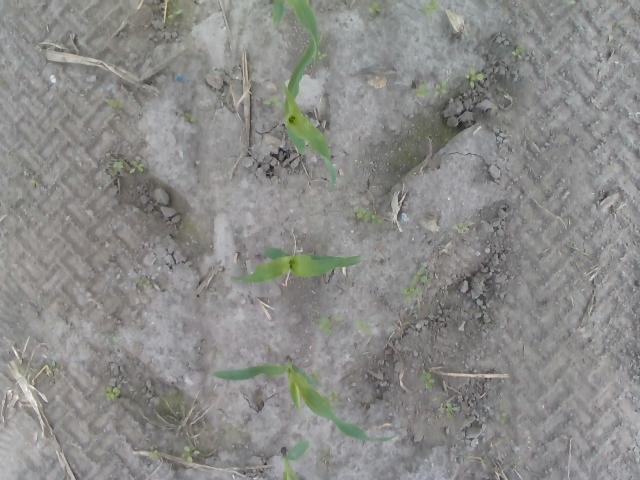Maize: (208, 357, 400, 444), (282, 33, 340, 190), (227, 244, 368, 286), (269, 0, 321, 51), (277, 438, 311, 480)
Weeds: (398, 272, 428, 296), (414, 79, 450, 99), (352, 205, 384, 225), (351, 318, 376, 336), (464, 68, 484, 88), (181, 446, 202, 463), (420, 368, 436, 389), (262, 95, 284, 109), (105, 385, 122, 401), (452, 221, 474, 233), (424, 0, 442, 14), (320, 318, 332, 338), (368, 0, 384, 15), (167, 6, 184, 20), (446, 402, 462, 416), (109, 160, 123, 175), (136, 278, 152, 290), (130, 162, 146, 174), (512, 47, 523, 61), (186, 113, 200, 124), (316, 50, 328, 61), (150, 450, 160, 462), (106, 99, 118, 108), (110, 334, 118, 346)
